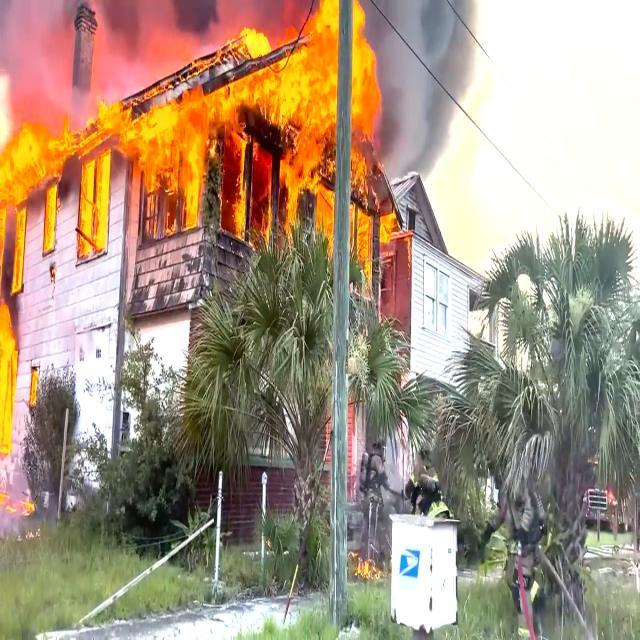Fire: (250, 28, 335, 152), (134, 118, 202, 225), (2, 117, 110, 149), (354, 8, 376, 146), (0, 302, 15, 464), (82, 155, 106, 253), (223, 131, 244, 230), (282, 164, 304, 237), (10, 204, 23, 292), (209, 86, 241, 120), (8, 163, 46, 191), (318, 184, 334, 248), (358, 207, 371, 267), (380, 201, 396, 244), (48, 182, 56, 243)
Smoke: (383, 0, 479, 171), (0, 0, 318, 25), (4, 30, 70, 104)
